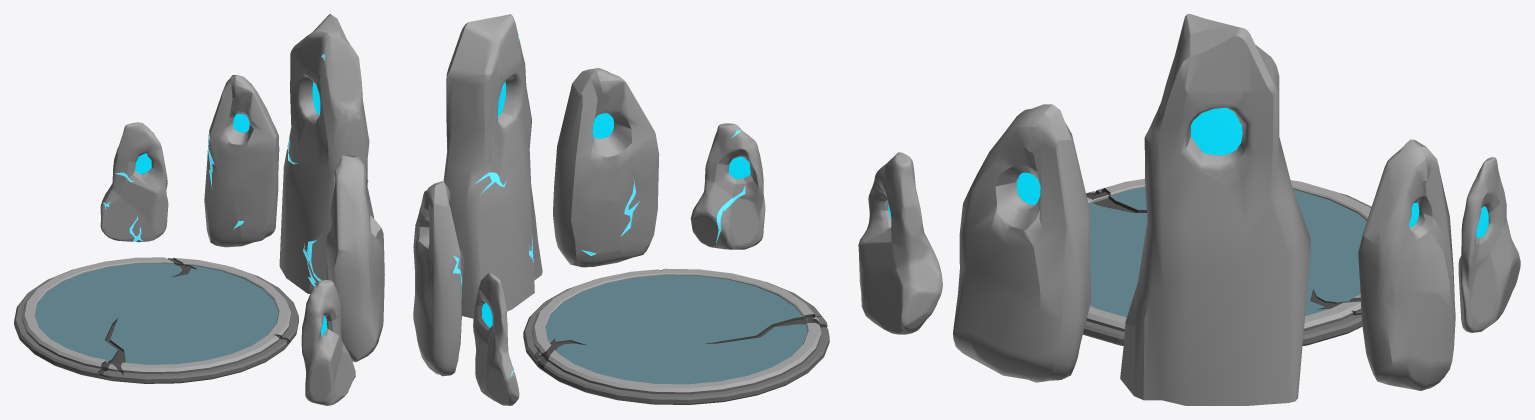
The model's file is Pillars.fbx.
3 renders of one model, left to right at view 1: azimuth 30°, elevation 25°; view 2: azimuth 150°, elevation 25°; view 3: azimuth 270°, elevation 25°, orthographic. The views are drawn at different scales.
Parts seen in each view (by area): view 1: pCylinder1, pSphere2, pSphere4, pSphere5, pSphere8, pSphere7; view 2: pCylinder1, pSphere2, pSphere5, pSphere4, pSphere7, pSphere8; view 3: pSphere2, pSphere5, pSphere4, pCylinder1, pSphere7, pSphere8.
Part boxes in pixels (left/top/right/bottom): pCylinder1: left=14, top=257, right=298, bottom=383; pSphere2: left=279, top=14, right=369, bottom=293; pSphere4: left=204, top=75, right=279, bottom=247; pSphere5: left=325, top=155, right=384, bottom=362; pSphere8: left=100, top=122, right=168, bottom=242; pSphere7: left=301, top=280, right=355, bottom=405; pCylinder1: left=523, top=268, right=829, bottom=404; pSphere2: left=443, top=14, right=542, bottom=318; pSphere5: left=553, top=68, right=659, bottom=267; pSphere4: left=413, top=181, right=464, bottom=376; pSphere7: left=690, top=123, right=765, bottom=249; pSphere8: left=473, top=273, right=519, bottom=405; pSphere2: left=1120, top=14, right=1310, bottom=405; pSphere5: left=953, top=104, right=1091, bottom=382; pSphere4: left=1358, top=139, right=1455, bottom=390; pCylinder1: left=1083, top=178, right=1371, bottom=345; pSphere7: left=858, top=152, right=942, bottom=334; pSphere8: left=1458, top=157, right=1520, bottom=332.
Bounding box in the file's own units: 18.93 × 15.03 × 23.25.
